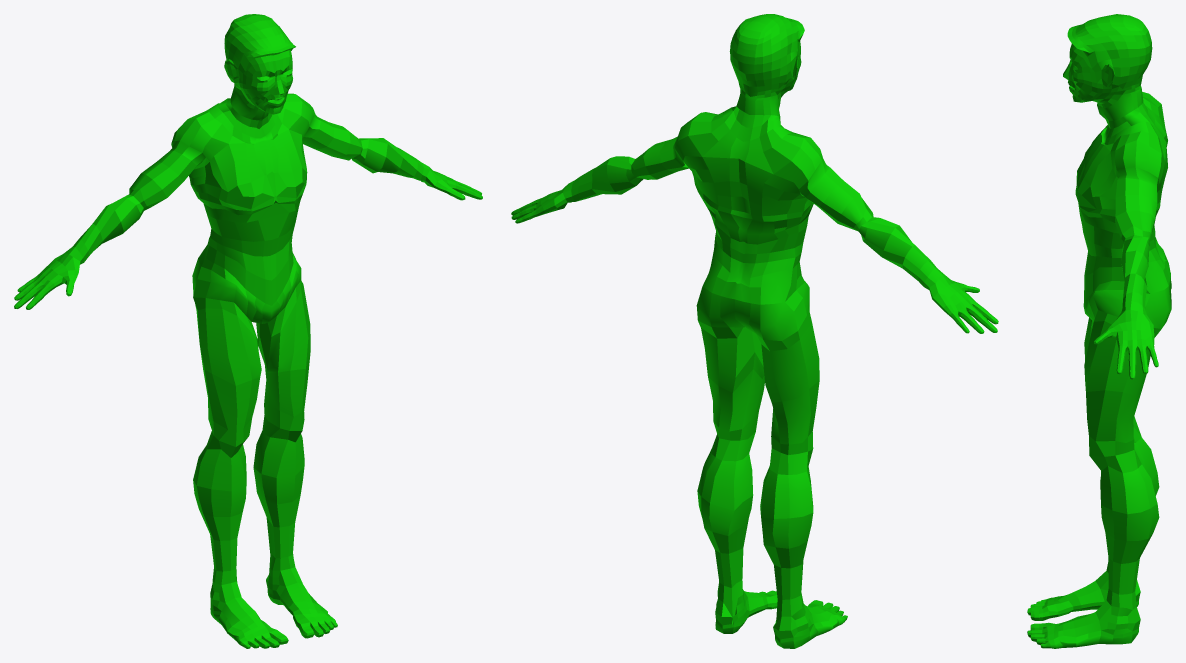
The model's file is human skin2.obj.
The picture shows the model from 3 angles, left to right: view 1: azimuth 30°, elevation 25°; view 2: azimuth 150°, elevation 25°; view 3: azimuth 270°, elevation 25°; orthographic projection. The views are drawn at different scales.
Visible parts, largest first — view 1: GenericMesh1; view 2: GenericMesh1; view 3: GenericMesh1.
Boxes of the visible parts, x1,y1,x2,y2 form: GenericMesh1: [14, 14, 482, 648]; GenericMesh1: [511, 14, 998, 648]; GenericMesh1: [1027, 14, 1171, 648].
Size of the model in its own units: 29.37 by 35.63 by 7.66.
